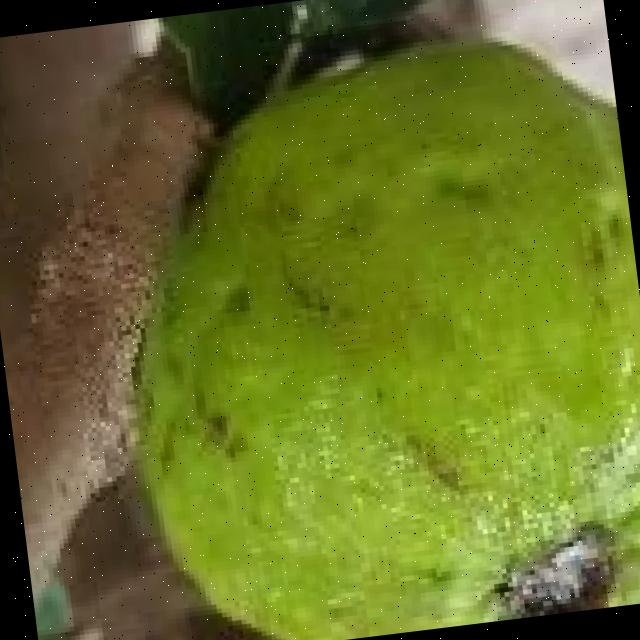Good_Guava 5-7 days: (138, 42, 640, 640)
